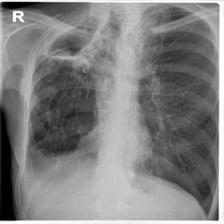tuberculosis: (12, 3, 219, 221)
